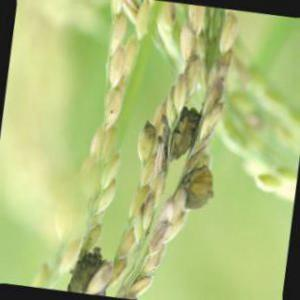Leaf_Scald: (169, 114, 204, 170), (71, 246, 105, 300), (186, 160, 212, 214)
